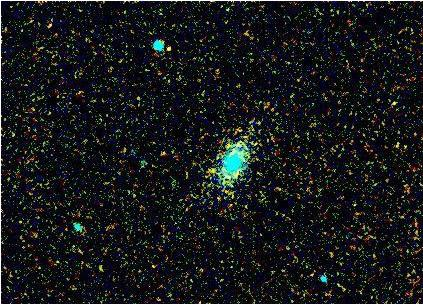star: (153, 31, 183, 61)
